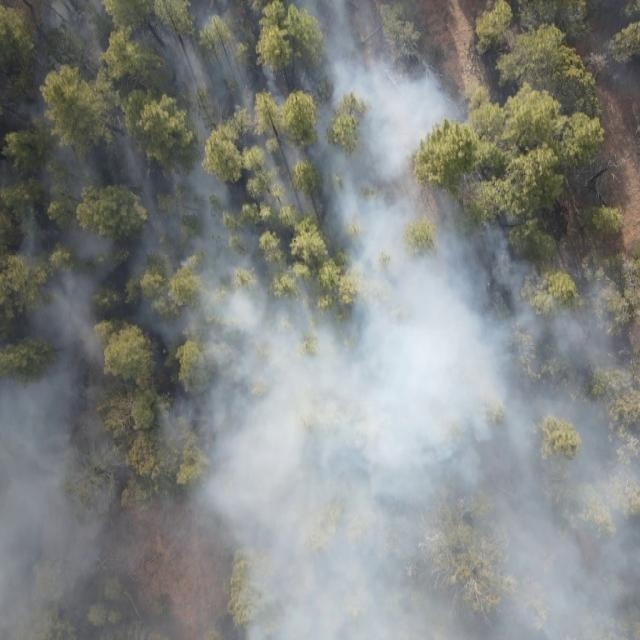fire: (208, 0, 224, 11)
smoke: (0, 0, 472, 640), (471, 207, 640, 640)
